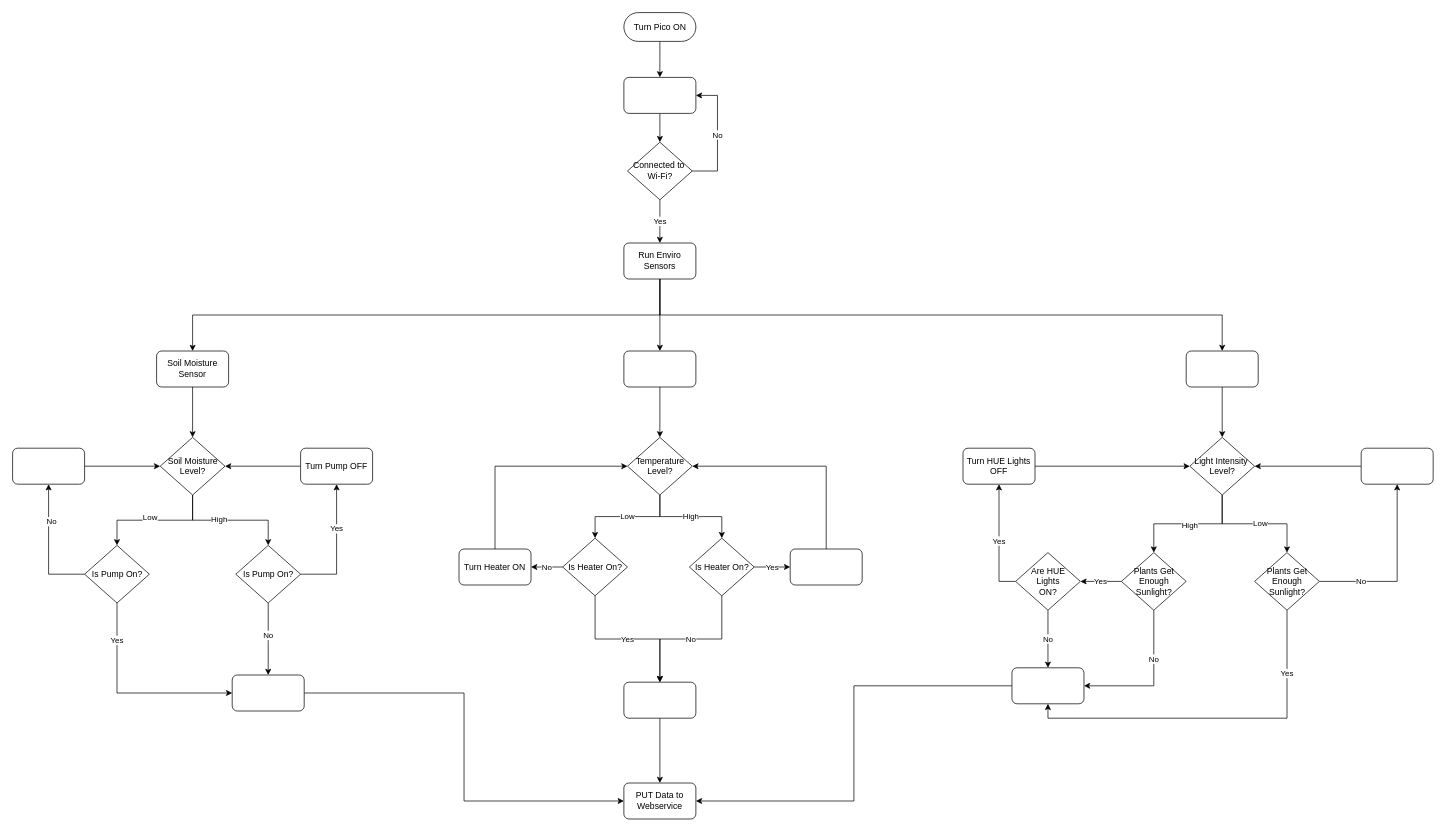
The diagram is 1446 pixels wide and 832 high, and some of its shapes have lost their labels. Here are the shapes that lost their labels. From the top down, the centre of each, then its label:
At (659,95): "Connect To Wi-Fi".
At (659,368): "Temp/Pres/Hum Sensor".
At (1221,368): "Light Intensity Sensor".
At (48,465): "Turn Pump ON".
At (1396,465): "Turn HUE Lights ON".
At (825,566): "Turn Heater OFF".
At (267,692): "Record Soil Moisture Levels".
At (659,699): "Record Temperature".
At (1047,685): "Record Light Intensity Data".
